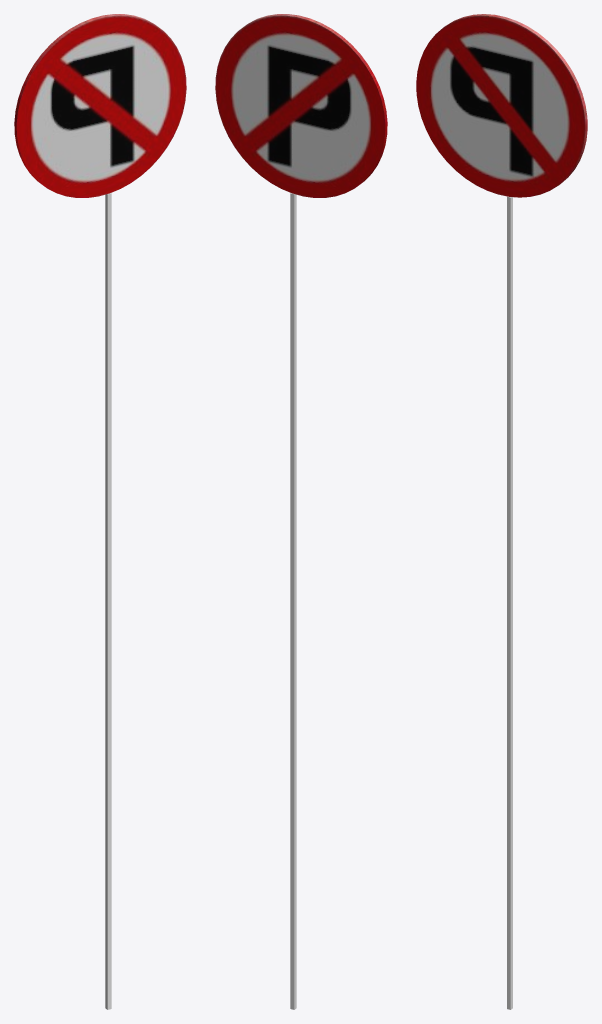
File: trafik_levha_park_etmek_yasaktir_2.obj
The picture shows the model from 3 angles, left to right: view 1: azimuth 30°, elevation 25°; view 2: azimuth 150°, elevation 25°; view 3: azimuth 330°, elevation 25°; orthographic projection.
Parts seen in each view (by area): view 1: Mesh2 Group3 Group1 Model, Mesh1 Group2 Group1 Model; view 2: Mesh2 Group3 Group1 Model, Mesh1 Group2 Group1 Model; view 3: Mesh2 Group3 Group1 Model, Mesh1 Group2 Group1 Model.
Part boxes in pixels (x1,y1,x2,y2): Mesh2 Group3 Group1 Model: [14, 14, 186, 197]; Mesh1 Group2 Group1 Model: [105, 193, 111, 1009]; Mesh2 Group3 Group1 Model: [215, 14, 387, 197]; Mesh1 Group2 Group1 Model: [290, 193, 296, 1009]; Mesh2 Group3 Group1 Model: [416, 14, 587, 197]; Mesh1 Group2 Group1 Model: [507, 196, 512, 1009].
Bounding box in the file's own units: 436 × 2436 × 10.
2 materials, 1 textured.
